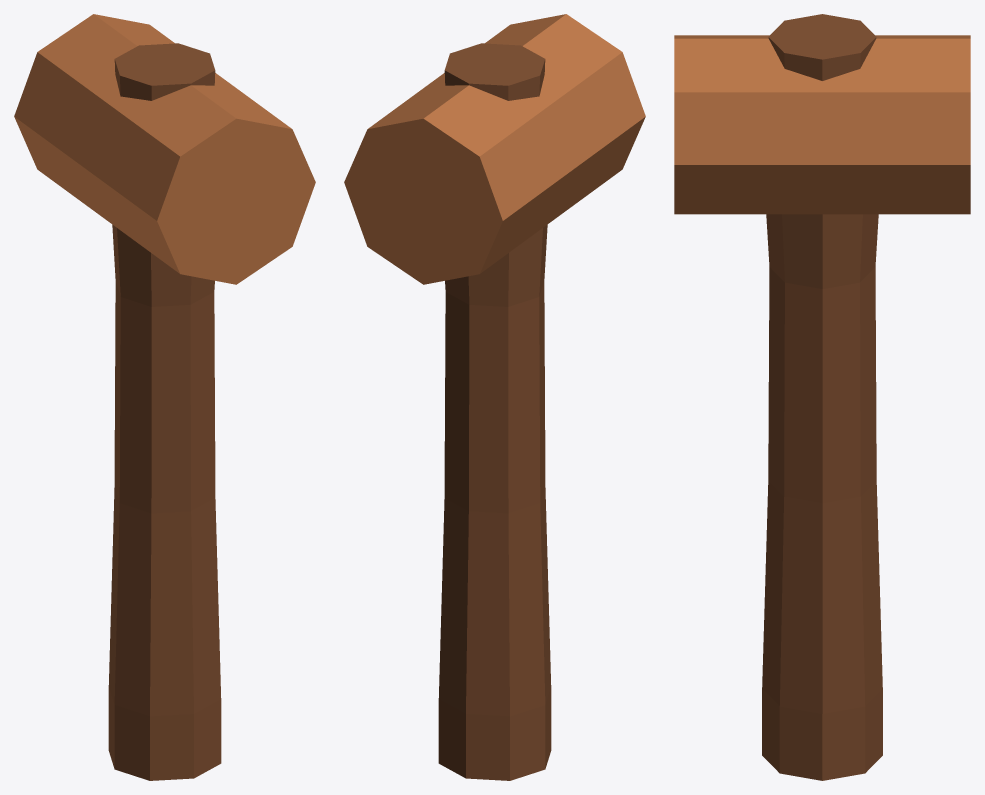
The model's file is hammer04.gltf.
The picture shows the model from 3 angles, left to right: view 1: azimuth 30°, elevation 25°; view 2: azimuth 150°, elevation 25°; view 3: azimuth 270°, elevation 25°; orthographic projection. The views are drawn at different scales.
Parts seen in each view (by area): view 1: Cylinder; view 2: Cylinder; view 3: Cylinder.
Boxes of the visible parts, x1,y1,x2,y2 form: Cylinder: [14, 14, 315, 780]; Cylinder: [344, 14, 645, 780]; Cylinder: [674, 14, 970, 780].
Size of the model in its own units: 0.0408 by 0.1702 by 0.0637.
1 material, 1 textured.
